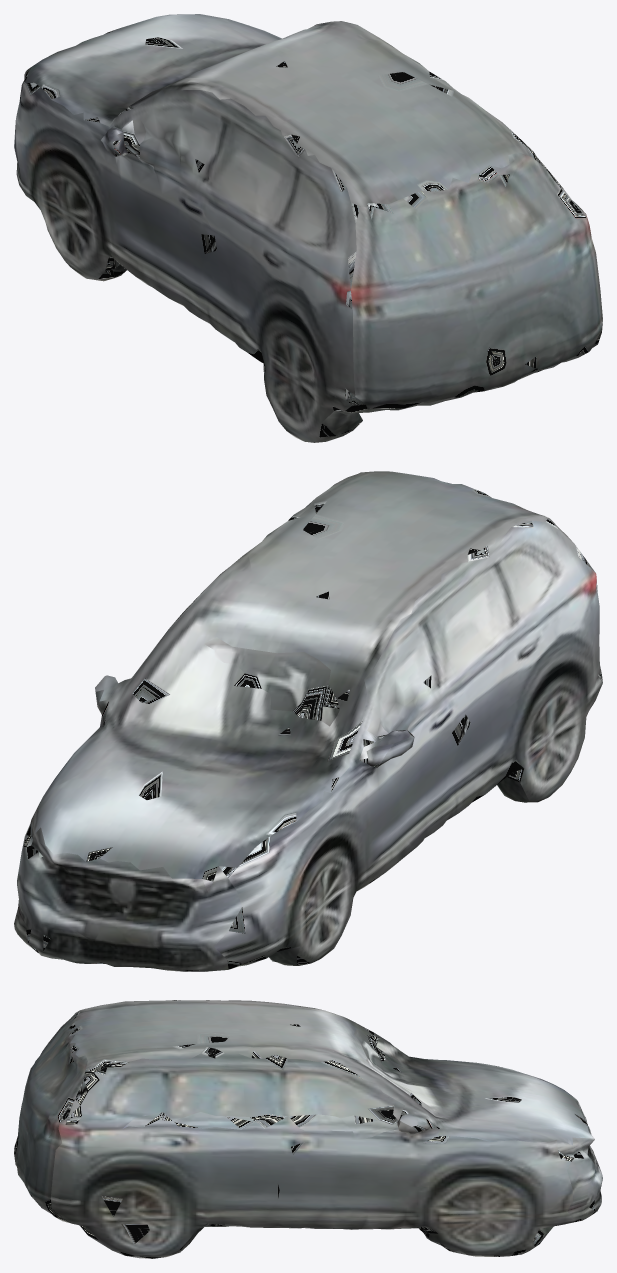
File: suv.glb
The picture shows the model from 3 angles, top to bottom: view 1: azimuth 30°, elevation 25°; view 2: azimuth 150°, elevation 25°; view 3: azimuth 270°, elevation 25°; orthographic projection. The views are drawn at different scales.
Visible parts, largest first — view 1: corpo; view 2: corpo; view 3: corpo.
Part boxes in pixels (left/top/right/bottom): corpo: left=14, top=14, right=602, bottom=442; corpo: left=14, top=471, right=602, bottom=971; corpo: left=14, top=1000, right=602, bottom=1258.
Bounding box in the file's own units: 1.85 × 1.7 × 4.5.
Materials: 1 (1 with a texture image).
